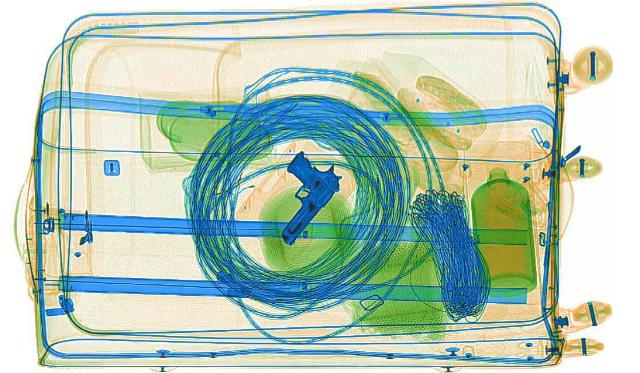Gun: (226, 150, 364, 241)
